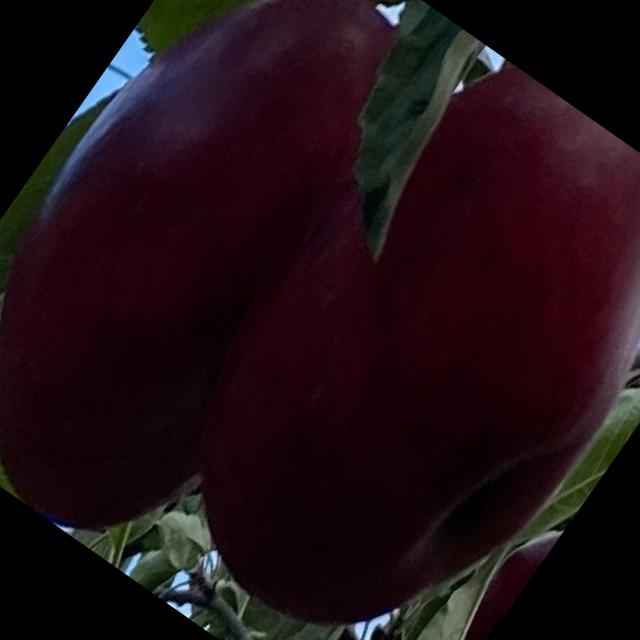Apples: (109, 16, 639, 639), (0, 0, 478, 576), (422, 503, 568, 639)
